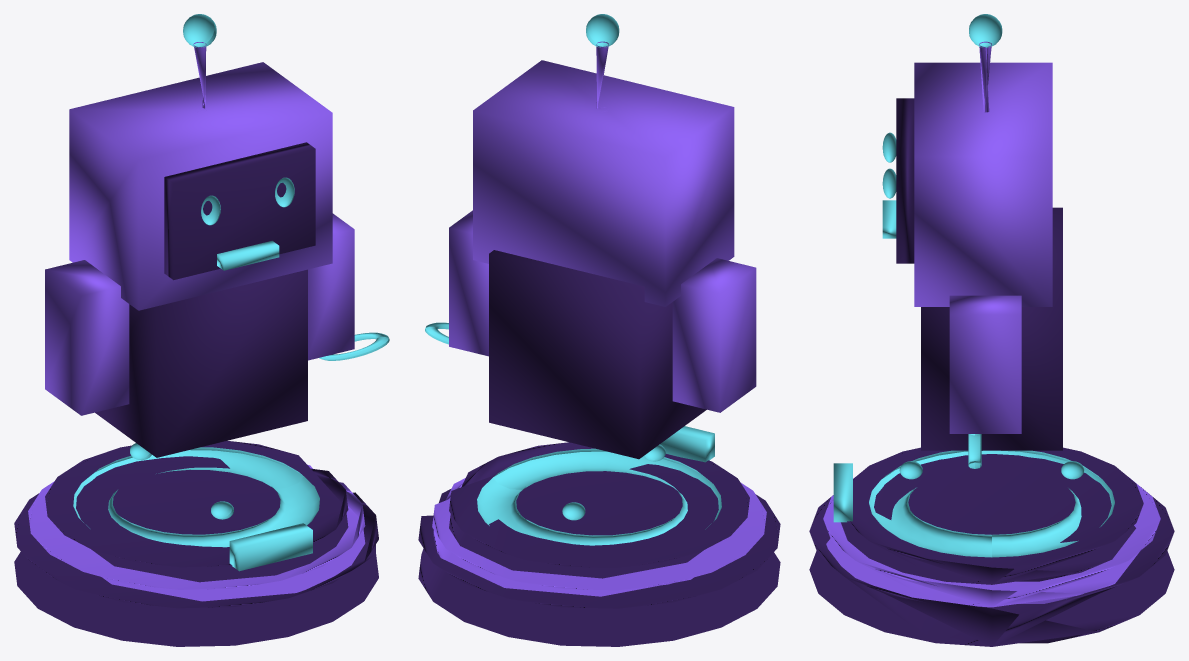
The model's file is panic_bot.glb.
3 views of the same model, side by side, from view 1: azimuth 30°, elevation 25°; view 2: azimuth 150°, elevation 25°; view 3: azimuth 270°, elevation 25° (orthographic).
Parts seen in each view (by area): view 1: panic_bot_#321B5C, panic_bot_#8B5CF6, panic_bot_#67E8F9; view 2: panic_bot_#321B5C, panic_bot_#8B5CF6, panic_bot_#67E8F9; view 3: panic_bot_#321B5C, panic_bot_#8B5CF6, panic_bot_#67E8F9.
Part boxes in pixels (bbox=[...]): panic_bot_#321B5C: bbox=[14, 142, 378, 646]; panic_bot_#8B5CF6: bbox=[28, 42, 365, 601]; panic_bot_#67E8F9: bbox=[73, 14, 389, 571]; panic_bot_#321B5C: bbox=[418, 250, 780, 646]; panic_bot_#8B5CF6: bbox=[432, 41, 766, 596]; panic_bot_#67E8F9: bbox=[425, 14, 721, 545]; panic_bot_#321B5C: bbox=[809, 98, 1174, 646]; panic_bot_#8B5CF6: bbox=[823, 41, 1160, 607]; panic_bot_#67E8F9: bbox=[833, 14, 1114, 557].
Size of the model in its own units: 1.86 by 2.88 by 1.72.
